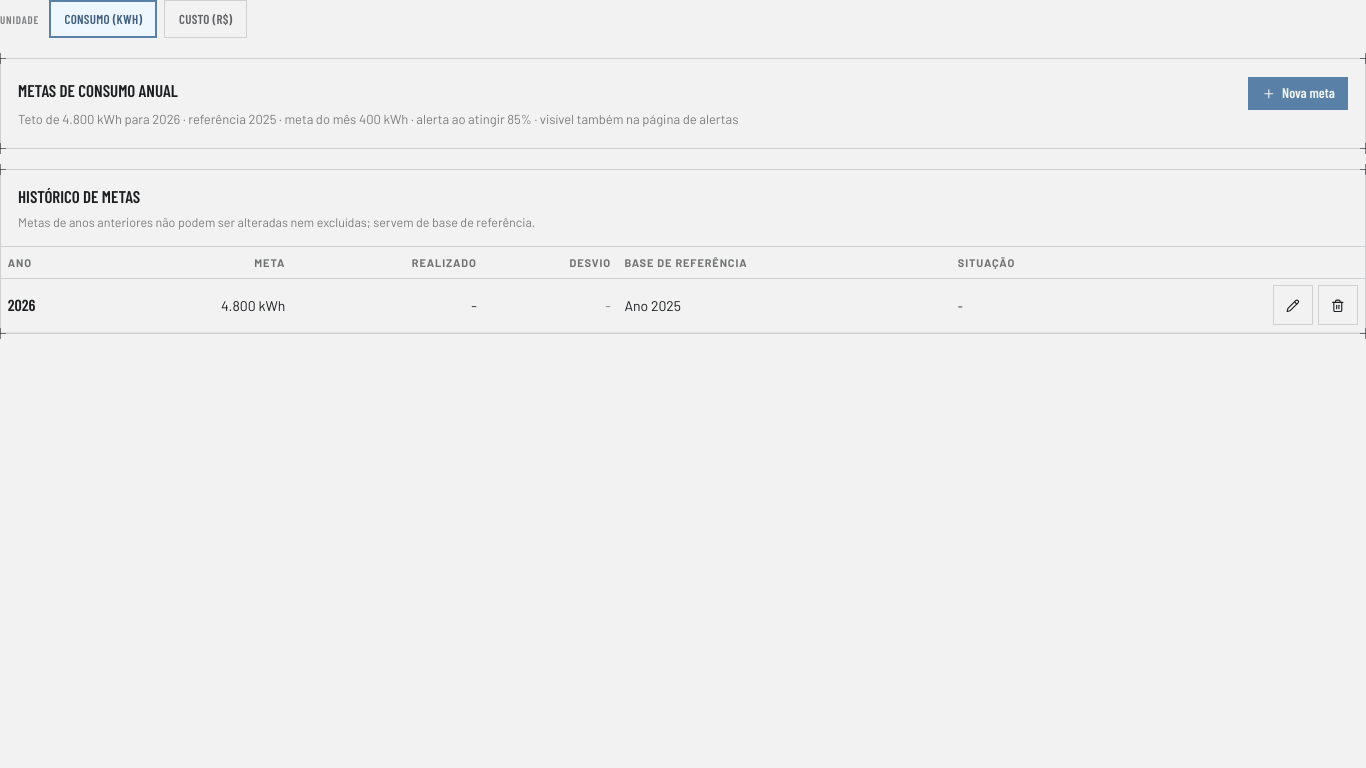
Test case: GoalsPage — criar › não deixa repetir um ano que a propriedade já tem
The width and height of the screenshot is (1366, 768).
Click the button "Nova meta" at coordinates (1298, 93), box [1248, 77, 1348, 110]
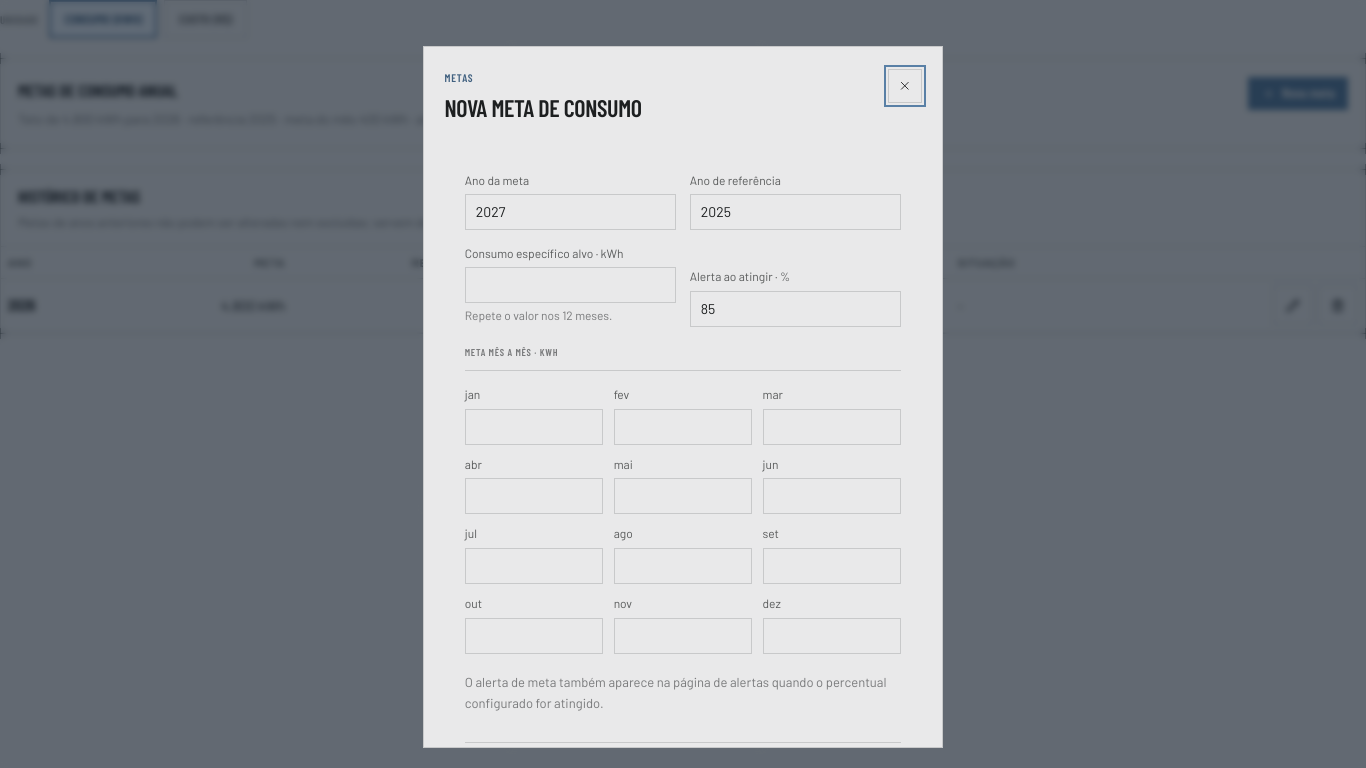
Replace the text in the number field labelled "Ano da meta" with "2026" at coordinates (570, 212), box [465, 194, 676, 230]
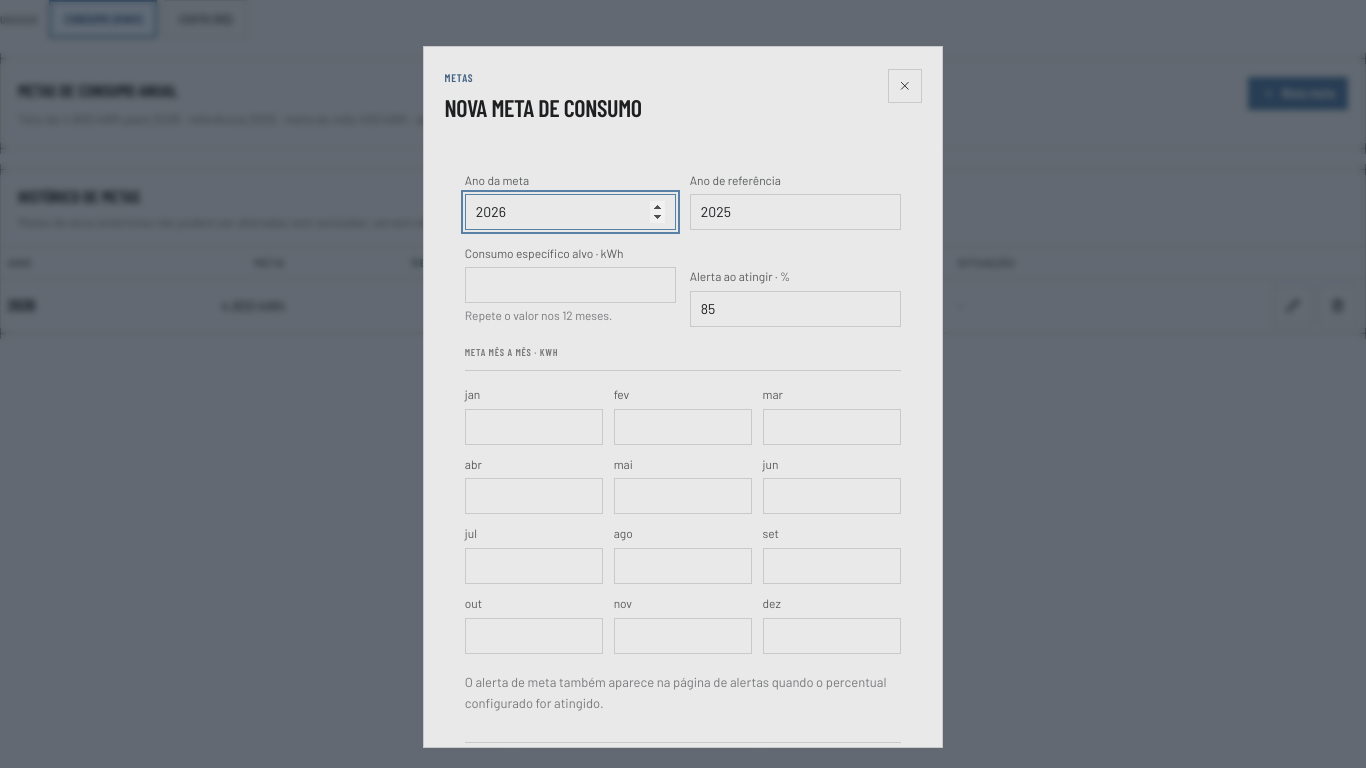
Type "500" into the number field labelled "Consumo específico alvo · kWh" at coordinates (570, 285), box [465, 267, 676, 303]
(page scrolled)
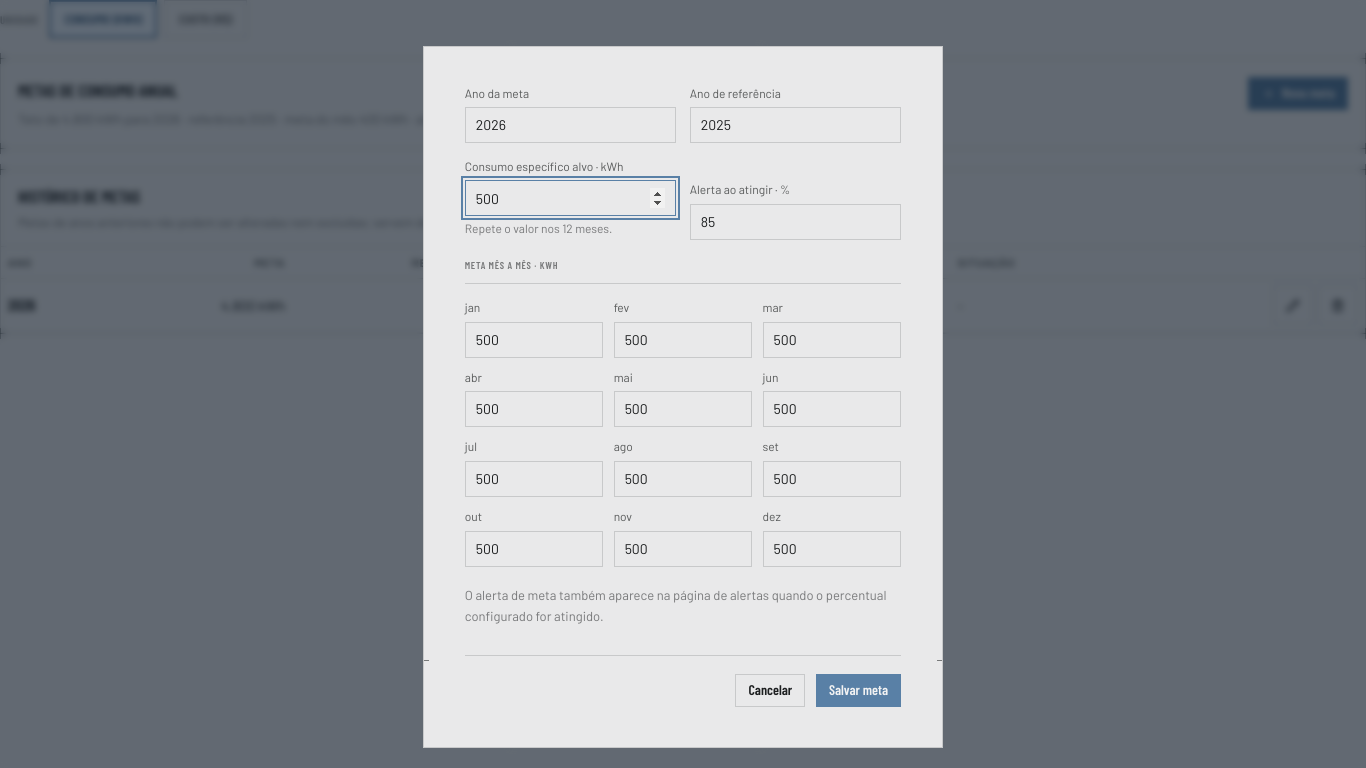
Click the button "Salvar meta" at coordinates (858, 690), box [816, 674, 901, 707]
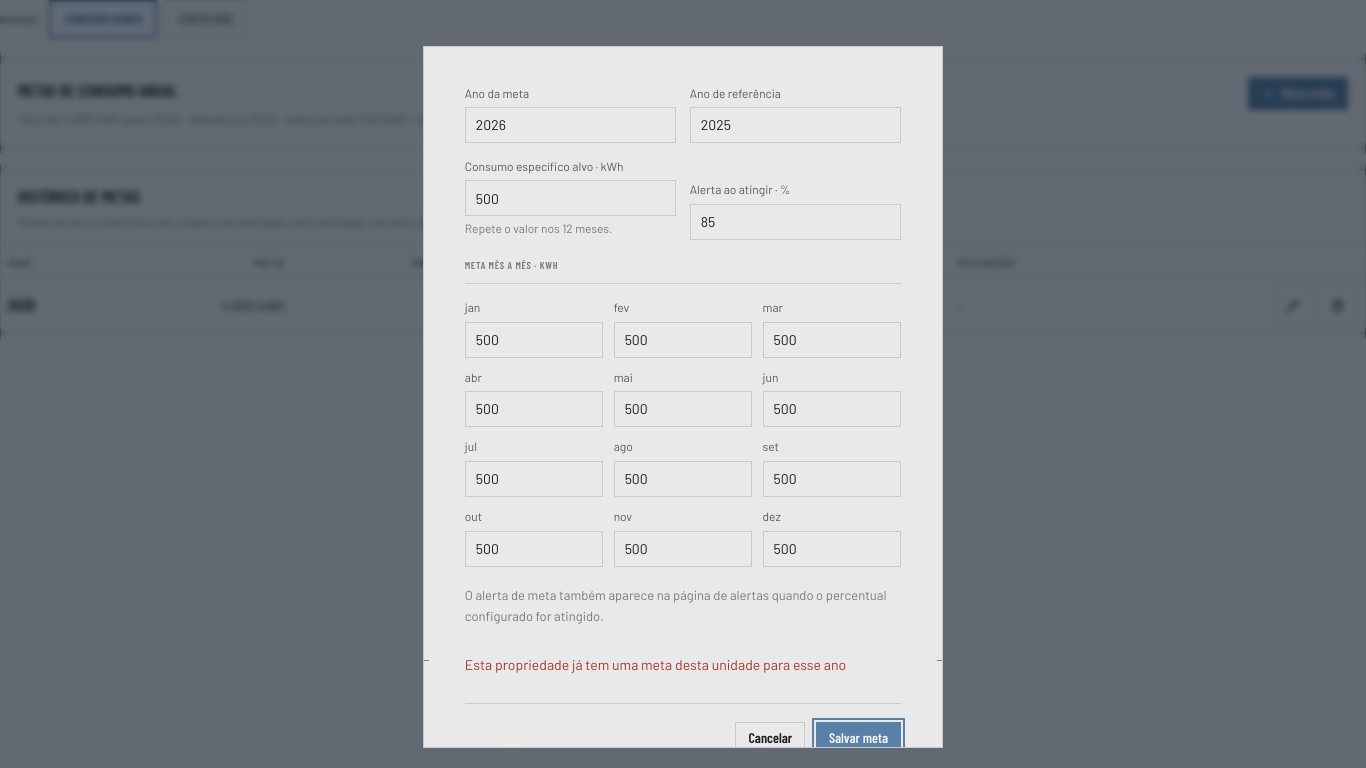
Check: the message shows "já tem uma meta", box [465, 656, 846, 673]
